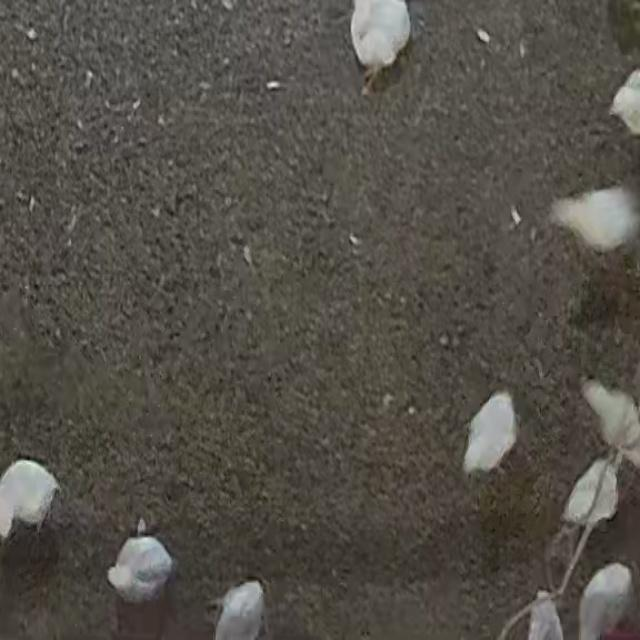chicken: (545, 181, 640, 258), (458, 386, 524, 477), (107, 532, 179, 606)
